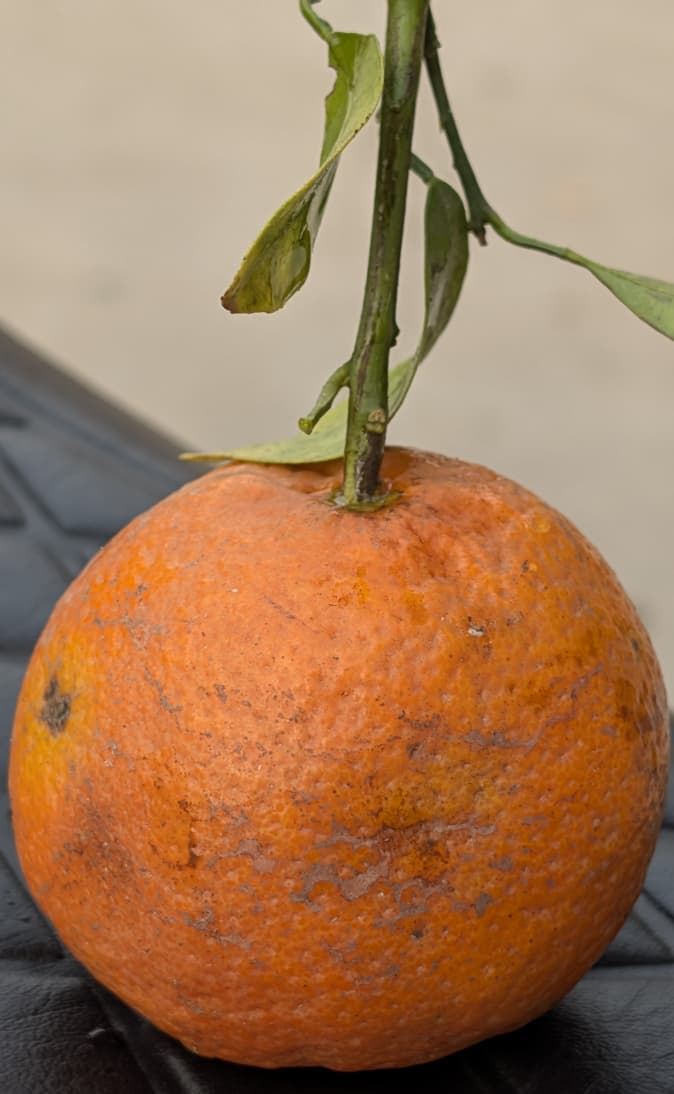orange: (86, 196, 674, 1006)
